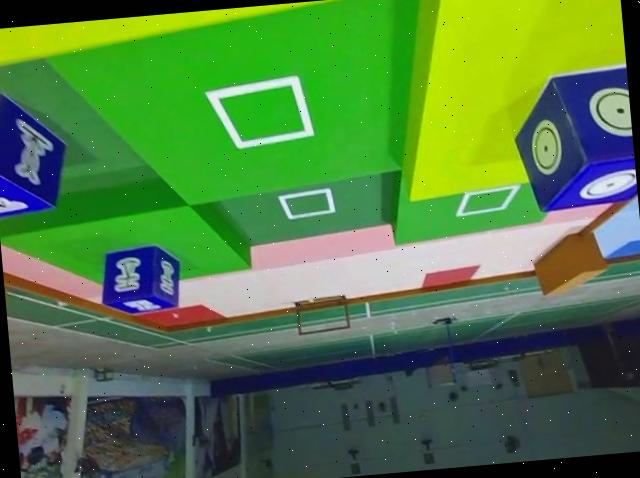R2 Real Blue: (508, 58, 638, 211), (0, 84, 70, 218), (97, 240, 185, 316)
